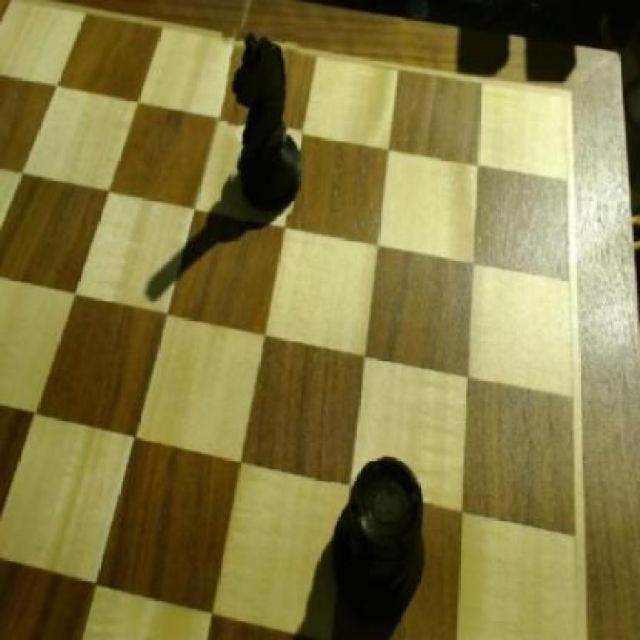black-king: (224, 23, 306, 219)
black-queen: (331, 448, 433, 634)
